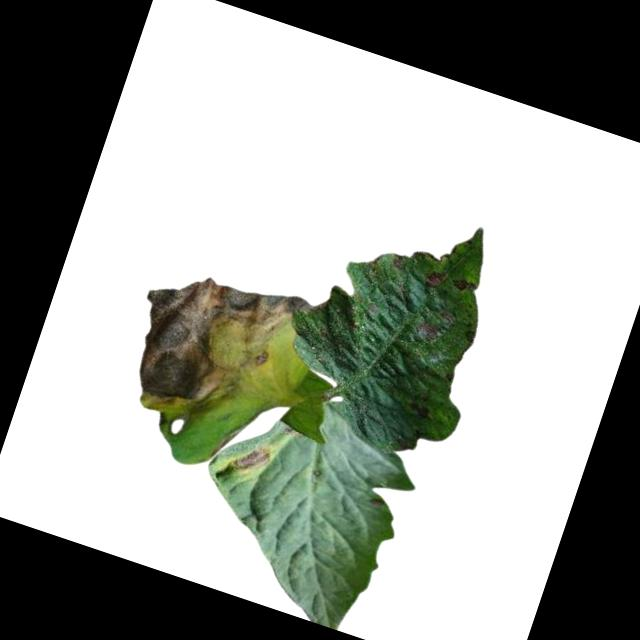Early_blight: (105, 242, 314, 455), (229, 440, 272, 482), (445, 272, 483, 300), (420, 264, 446, 291), (412, 320, 440, 344), (387, 251, 407, 272)
